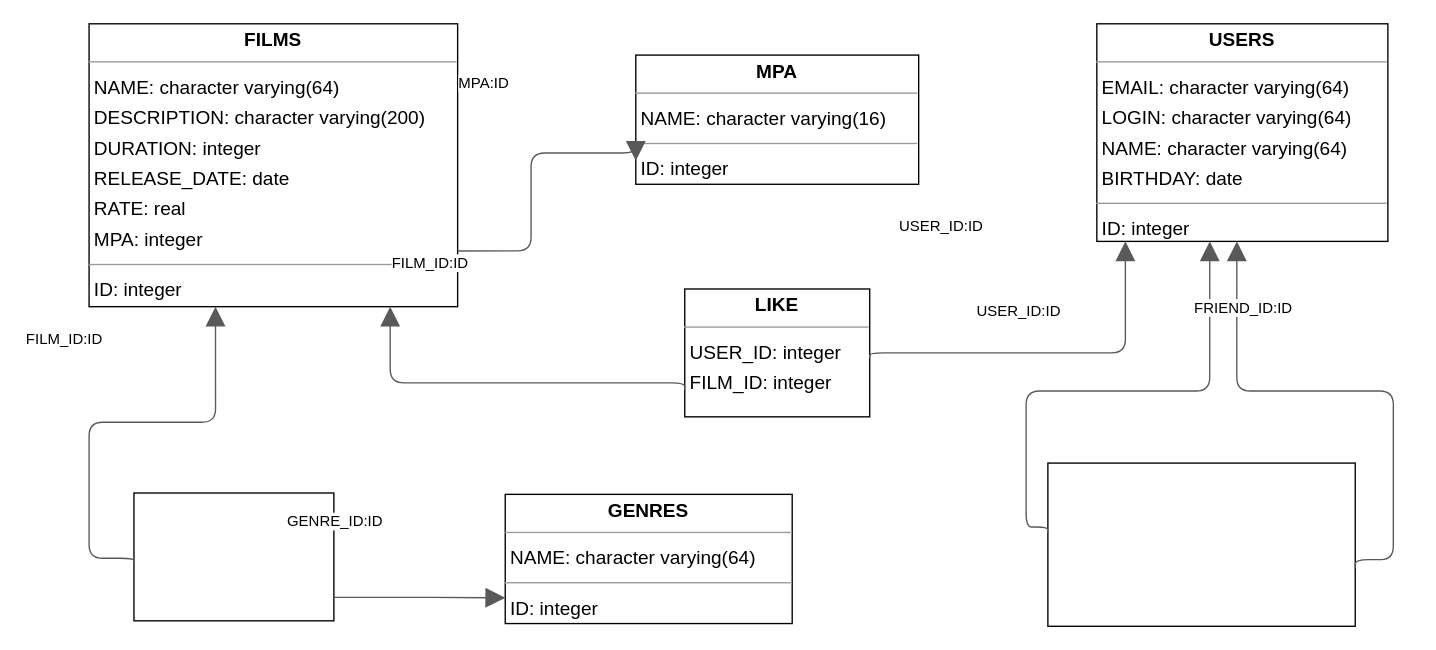
Image size: 1436x650. Some labels were removed from this diagram. The centre of each missing label's shape, as x and y in pixels:
"FRIEND USER_ID: integer FRIEND_ID: integer STATUS: character varying(64)" belongs at point (1201, 544).
"GENRE FILM_ID: integer GENRE_ID: integer" belongs at point (233, 556).
